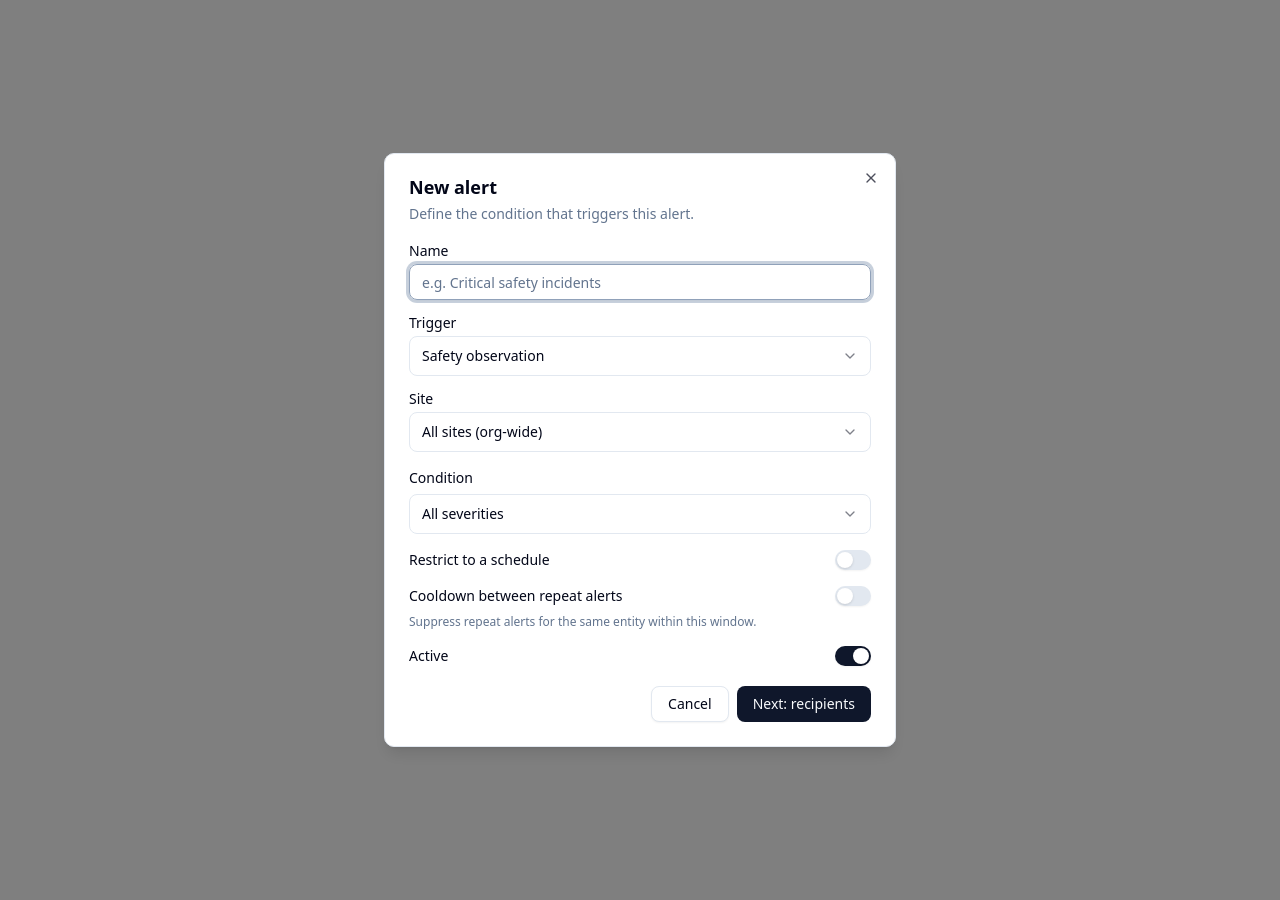
PolicyDialog - create mode step flow › does not advance when name is empty
The width and height of the screenshot is (1280, 900).
What coordinates should you click on to do the following:
click the button "Next: recipients"
I would click on:
 (804, 704)
Its box is [737,686,871,722].
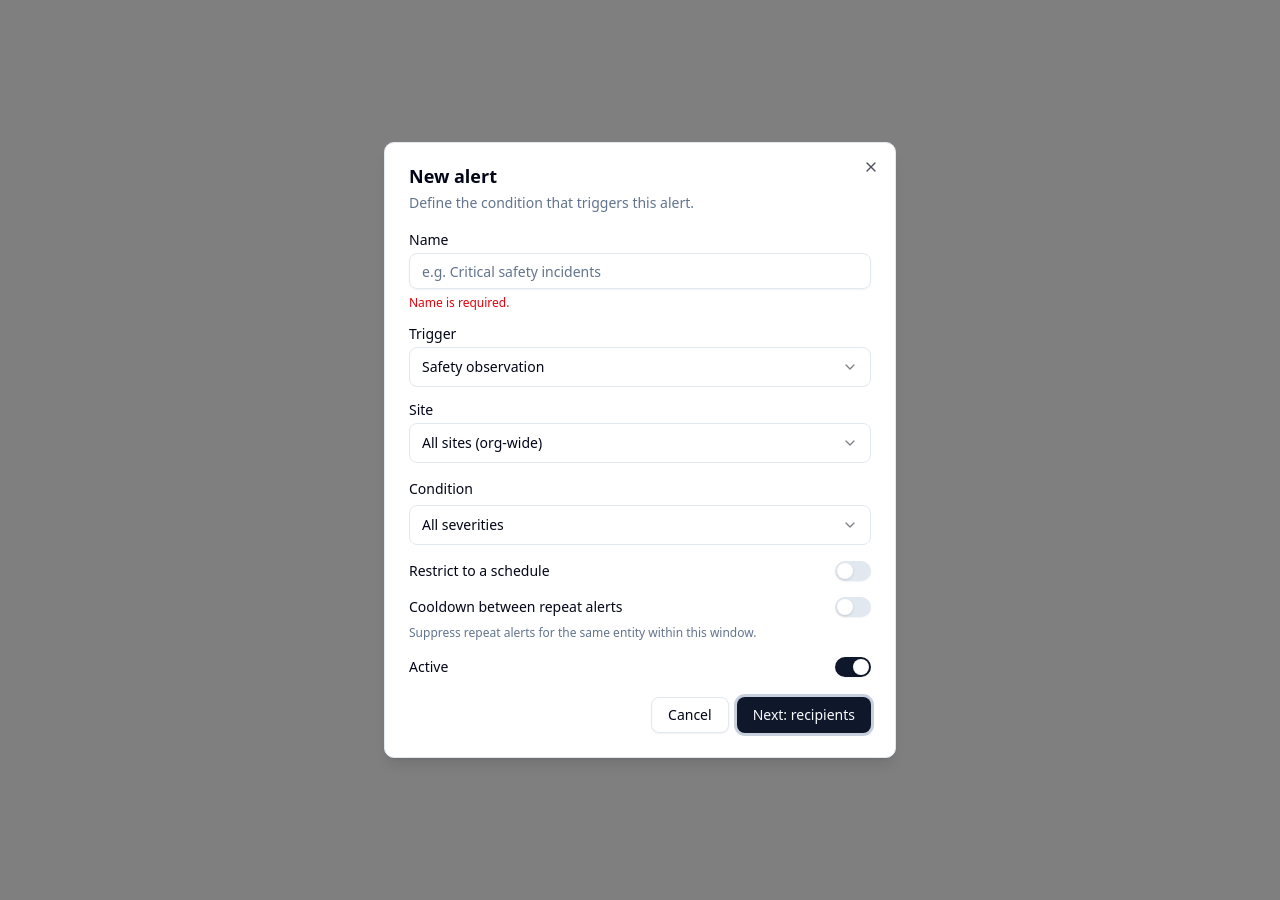
Expected: the text "Define the condition that triggers this alert." is shown, [409,193,694,212]
Expected: the text "Name is required." is shown, [409,294,509,311]
